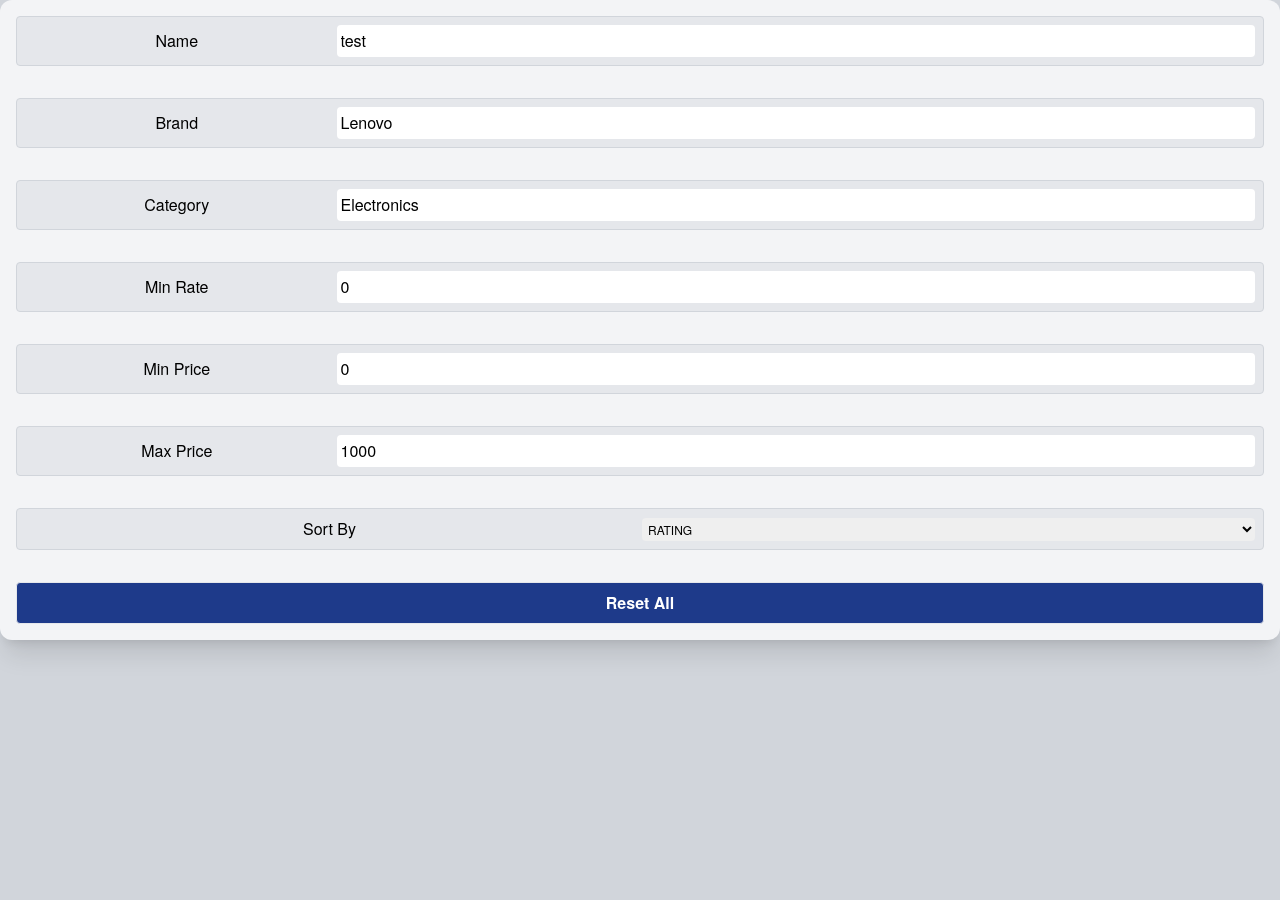
FilterPanel Component › resets all filters when reset button is clicked
Click the button with test id "reset-all" at (640,603), box 16,582 -> 1264,624
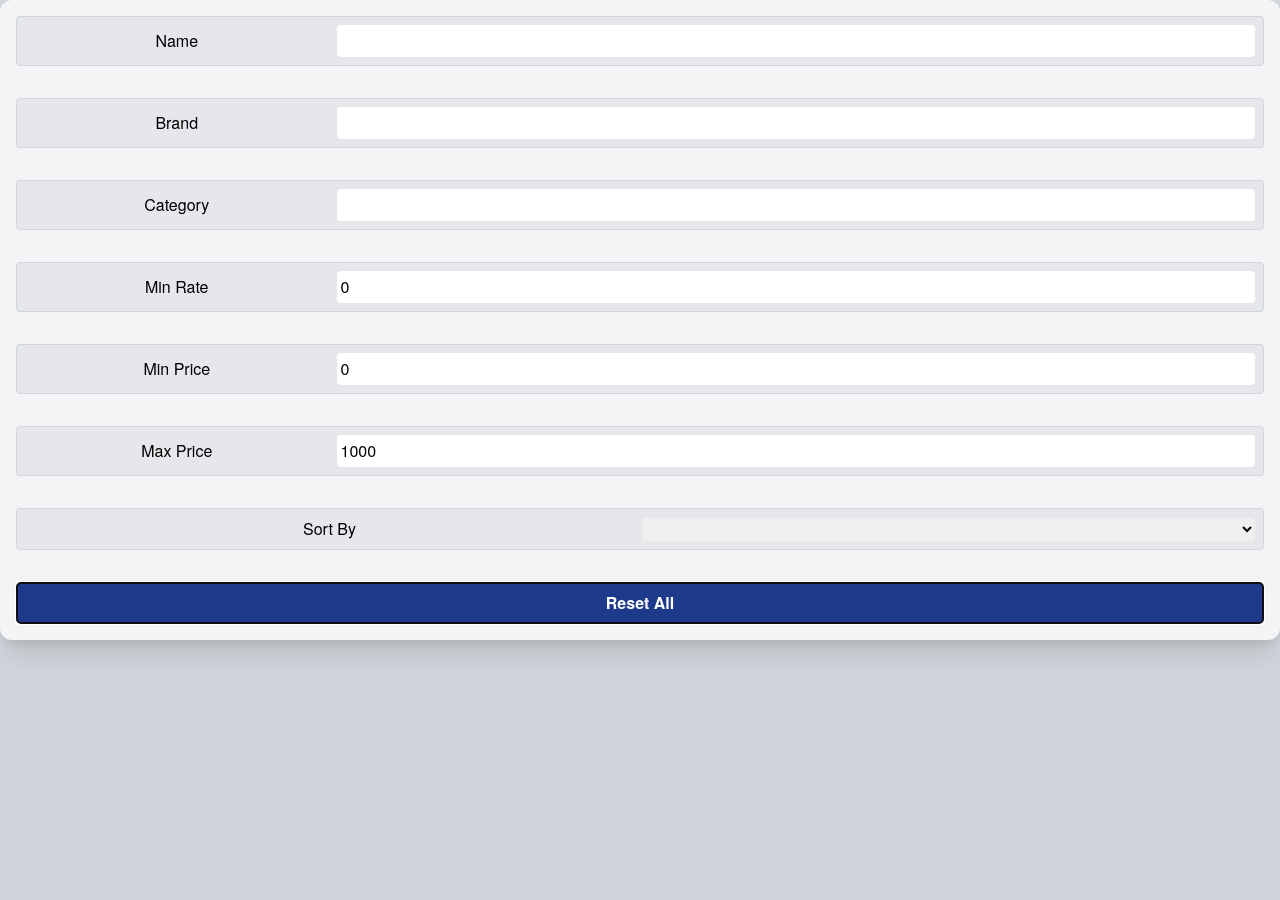
Check: the field with test id "name-input" is empty, box 336,25 -> 1255,57
Check: the field with test id "brand-input" is empty, box 336,107 -> 1255,139
Check: the field with test id "category-input" is empty, box 336,189 -> 1255,221
